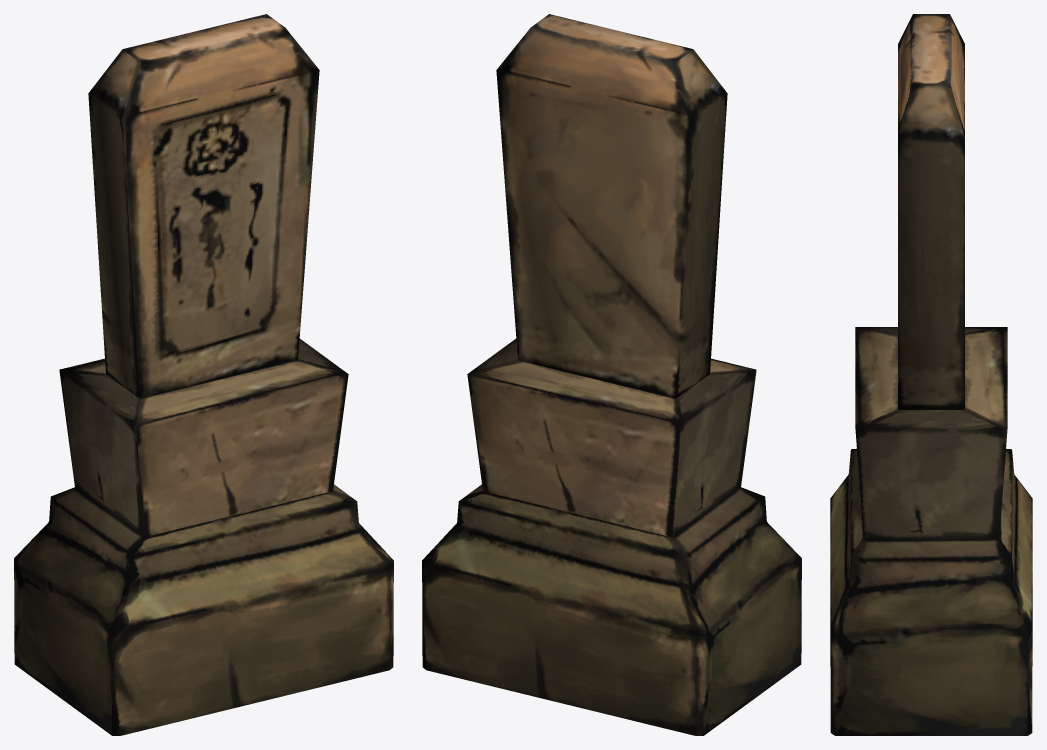
Rendered from PRP_Grave01.FBX.
The picture shows the model from 3 angles, left to right: view 1: azimuth 30°, elevation 25°; view 2: azimuth 150°, elevation 25°; view 3: azimuth 270°, elevation 25°; orthographic projection.
Parts seen in each view (by area): view 1: PRP_Grave01; view 2: PRP_Grave01; view 3: PRP_Grave01.
Boxes of the visible parts, box(x1,y1,x2,y2) form: PRP_Grave01: box(14, 14, 393, 735); PRP_Grave01: box(422, 14, 801, 735); PRP_Grave01: box(830, 14, 1032, 735).
Bounding box in the file's own units: 80.8 × 171 × 50.74.
